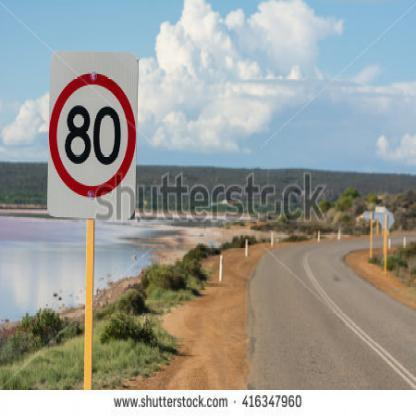Speed Limit 80: (54, 74, 130, 193)
